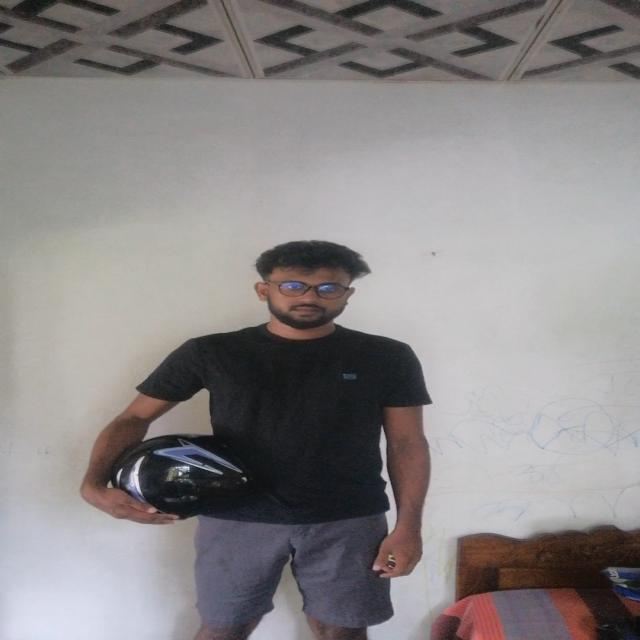Person: (98, 227, 428, 638)
